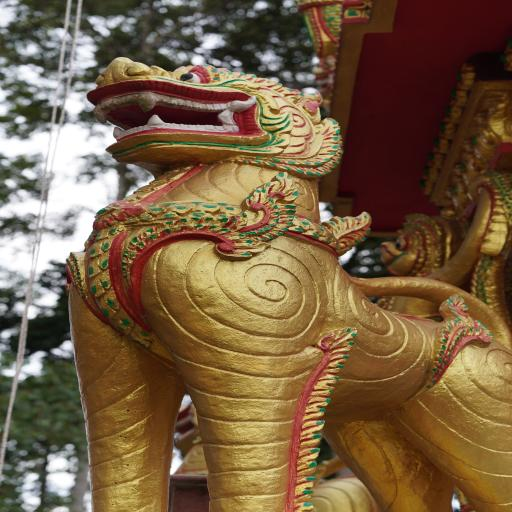than: (34, 47, 512, 512)
